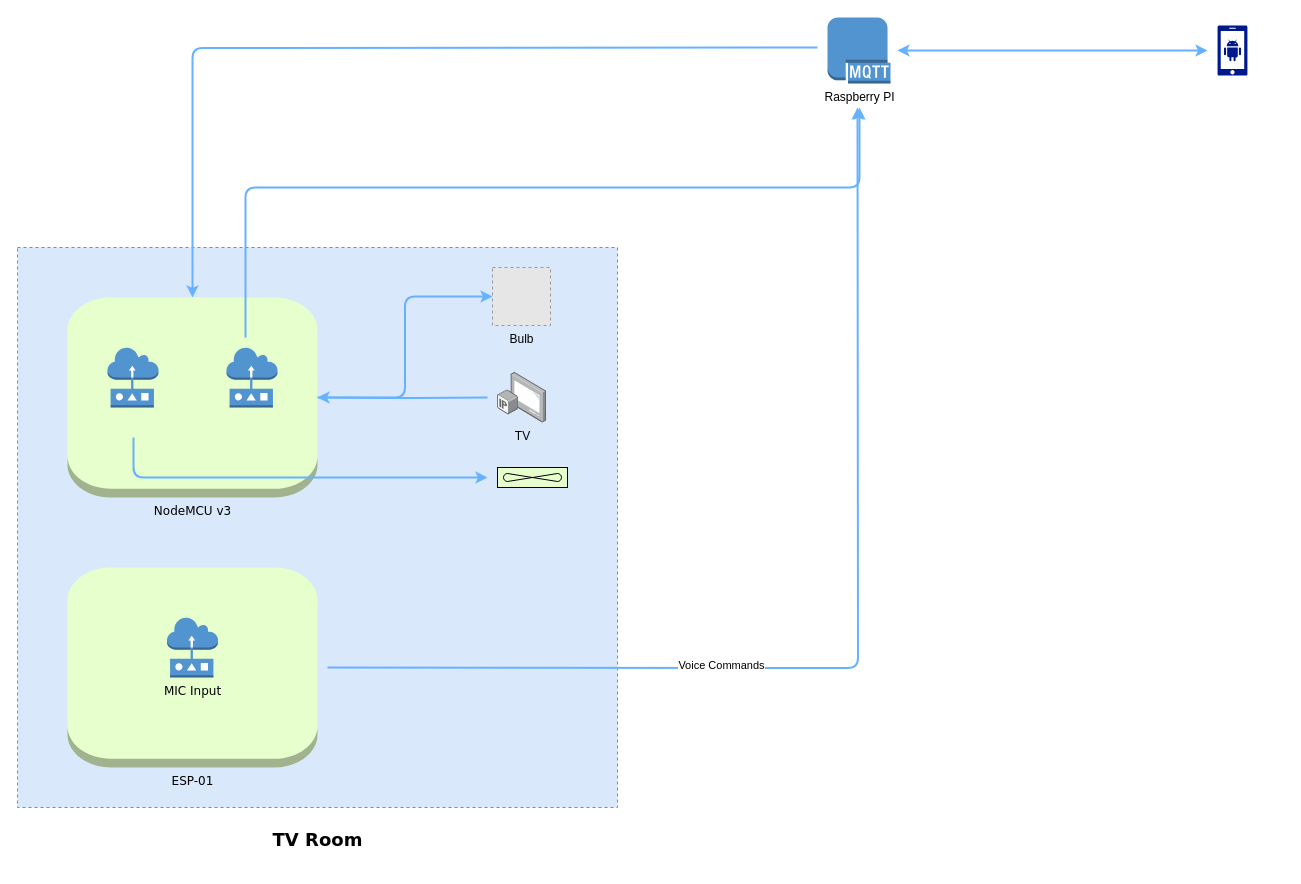
Some shapes in this 1301 by 884 pixel diagram are drawn without their labels. Grey dashed boxes stand in for pictures. The shapes that lost their labels are listed below. From the top down, each one's box as (x1, y1, x2, y2) in pixels, then its label:
(1217, 25, 1247, 75): MQTT Dashboard
(106, 346, 158, 408): IR Transmitter
(226, 346, 278, 408): Temp Sensor
(496, 466, 568, 488): AC
